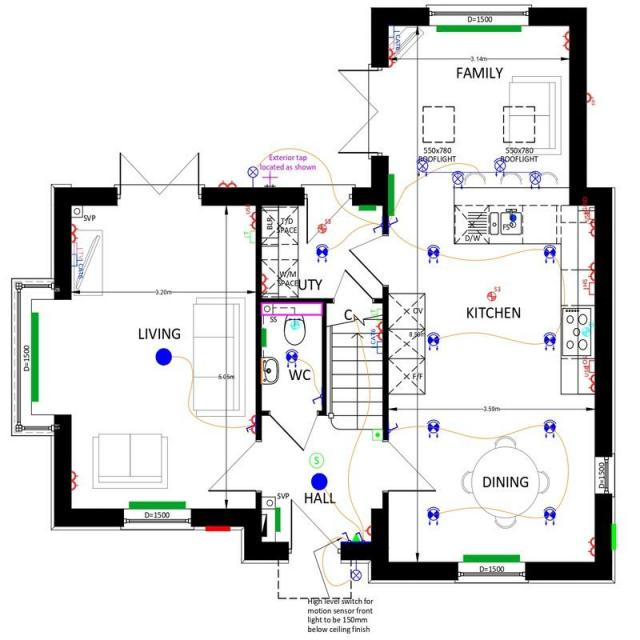BT Entry Point: (351, 531, 358, 542)
Cat 6 Data Socket: (369, 327, 382, 353), (70, 252, 82, 278), (388, 25, 400, 49)
Ceiling Mounted Continuous Extract FanWith Boost Mode Activated By Light Switch: (290, 320, 299, 328)
Ceiling Mounted Continuous Extract FanWith Local Boost Switch: (486, 286, 500, 300), (318, 218, 330, 232)
Co-Ax TV Socket: (70, 241, 82, 258), (388, 37, 399, 53)
Consumer Unit: (261, 513, 266, 536)
Double Socket: (70, 470, 78, 490), (586, 537, 594, 556), (586, 261, 594, 280), (70, 224, 78, 242), (261, 273, 268, 292), (218, 180, 236, 187), (248, 414, 254, 434), (562, 30, 568, 50), (388, 49, 395, 66), (376, 320, 382, 339)
Electric Meter Box: (204, 525, 230, 531)
External Wall Light: (350, 558, 361, 580), (247, 166, 257, 187)
Gas Meter Box: (610, 522, 616, 549)
Grid Switch: (582, 196, 594, 218)
Hob Switch: (580, 278, 594, 294)
Light Switch: (311, 393, 321, 404), (388, 422, 398, 432), (354, 531, 364, 541), (340, 531, 350, 541), (388, 216, 398, 226), (372, 223, 382, 232), (246, 424, 255, 433)
Low Energy Downlighter: (284, 348, 298, 367), (542, 244, 556, 263), (426, 418, 439, 438), (542, 506, 556, 524), (426, 244, 439, 263), (426, 331, 439, 350), (543, 418, 555, 438), (426, 506, 439, 524), (315, 243, 327, 262), (543, 331, 555, 350)
Low Energy Pendant Light: (310, 472, 328, 490), (154, 347, 172, 365)
Mains Wired Smoke Detector: (308, 452, 322, 468)
Outside Socket: (586, 92, 594, 105)
Outside Tap: (262, 170, 276, 186)
Oven Switch: (582, 355, 594, 372)
Programmable Room Thermostat: (372, 428, 381, 440)
Radiator: (30, 311, 38, 402), (128, 500, 185, 509), (436, 25, 521, 31), (462, 554, 520, 562), (388, 173, 393, 215), (274, 506, 280, 532), (260, 328, 266, 346), (358, 205, 374, 210)
Single Socket: (362, 526, 370, 534)
Telephone Socket: (242, 228, 255, 242), (371, 307, 382, 320)
Track Light: (416, 158, 542, 188)
USB Double Socket: (584, 367, 594, 391), (245, 204, 254, 229), (585, 212, 594, 237)
Water Entry Position: (509, 213, 516, 220)
